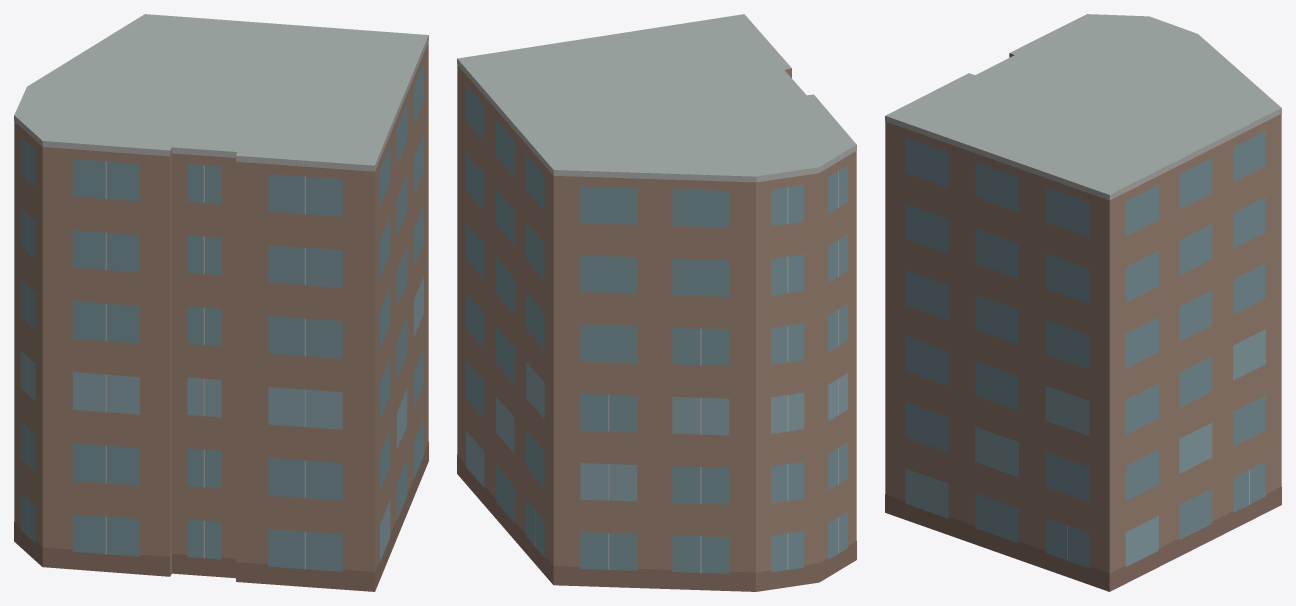
Rendered from survey-upis-32968110.glb.
3 views of the same model, side by side, from view 1: azimuth 30°, elevation 25°; view 2: azimuth 150°, elevation 25°; view 3: azimuth 270°, elevation 25° (orthographic). The views are drawn at different scales.
Visible parts, largest first — view 1: survey-upis-32968110.tmp; view 2: survey-upis-32968110.tmp; view 3: survey-upis-32968110.tmp.
Boxes of the visible parts, <box> form: survey-upis-32968110.tmp: <box>14,14,428,591</box>; survey-upis-32968110.tmp: <box>457,14,856,591</box>; survey-upis-32968110.tmp: <box>885,14,1281,591</box>.
Bounding box in the file's own units: 16.97 × 17.35 × 15.72.
